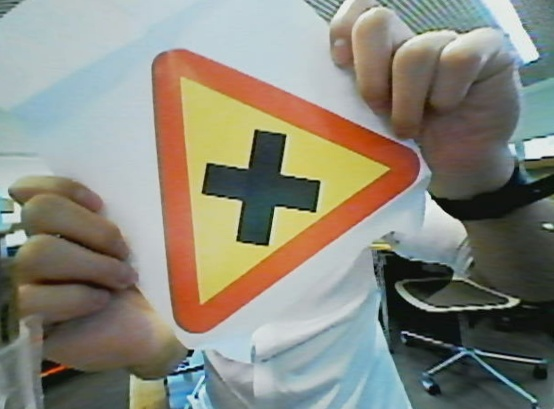junction: (140, 50, 423, 340)
